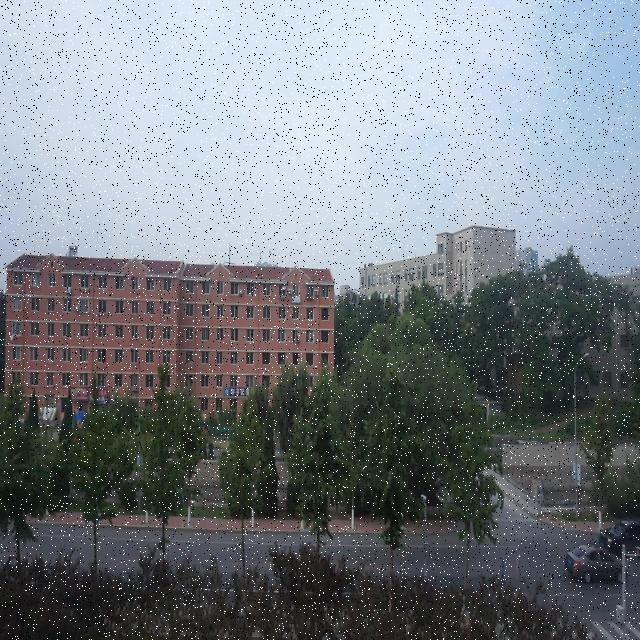UAV: (344, 285, 368, 308)
